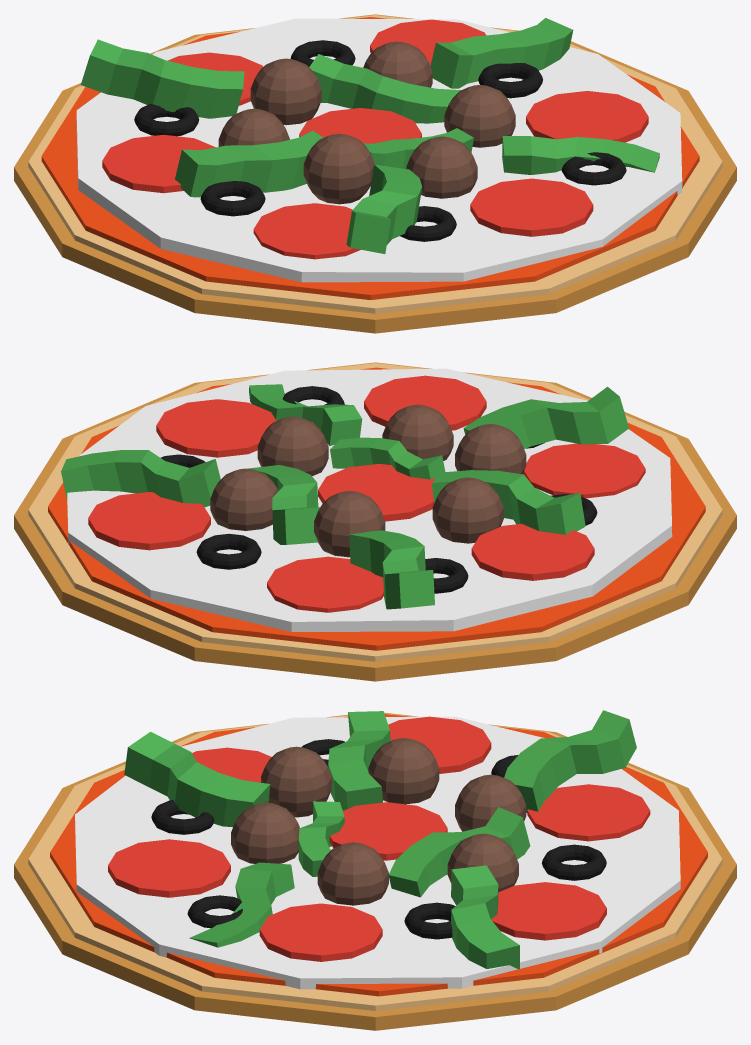
Rendered from pizza.glb.
3 views of the same model, one above another, from view 1: azimuth 30°, elevation 25°; view 2: azimuth 150°, elevation 25°; view 3: azimuth 270°, elevation 25° (orthographic).
Visible parts, largest first — view 1: group60956185, group13992555, group1051877250, group1309335234, group2073463504, group1800032711, group65050131, group565404572, group274291298, group1240131638, group1908690590, group1475154722 (+18 smaller); view 2: group60956185, group13992555, group1051877250, group1309335234, group565404572, group1475154722, group1920391555, group1240131638, group273593077, group1908690590, group1299724127, group2073463504 (+15 smaller); view 3: group60956185, group13992555, group1051877250, group1309335234, group1475154722, group2073463504, group1240131638, group65050131, group1920391555, group1299724127, group565404572, group274291298 (+16 smaller).
Boxes of the visible parts, x1,y1,x2,y2 form: group60956185: (76, 18, 682, 282); group13992555: (14, 14, 736, 333); group1051877250: (28, 15, 722, 313); group1309335234: (41, 17, 699, 299); group2073463504: (80, 39, 244, 118); group1800032711: (175, 130, 323, 197); group65050131: (470, 178, 593, 236); group565404572: (430, 18, 573, 88); group274291298: (309, 54, 461, 123); group1240131638: (526, 91, 648, 142); group1908690590: (253, 203, 360, 259); group1475154722: (346, 164, 422, 253); group60956185: (67, 368, 672, 631); group13992555: (14, 362, 736, 681); group1051877250: (28, 363, 722, 661); group1309335234: (48, 367, 705, 650); group565404572: (61, 450, 220, 507); group1475154722: (463, 386, 628, 449); group1920391555: (88, 492, 210, 550); group1240131638: (156, 399, 276, 457); group273593077: (471, 523, 594, 580); group1908690590: (523, 443, 645, 498); group1299724127: (267, 556, 383, 612); group2073463504: (349, 530, 434, 609); group60956185: (75, 716, 680, 989); group13992555: (14, 712, 736, 1030); group1051877250: (28, 713, 722, 1010); group1309335234: (50, 714, 707, 996); group1475154722: (124, 731, 270, 827); group2073463504: (504, 710, 636, 812); group1240131638: (259, 903, 382, 961); group65050131: (108, 839, 230, 897); group1920391555: (491, 882, 606, 940); group1299724127: (527, 784, 650, 841); group565404572: (451, 865, 519, 969); group274291298: (389, 807, 530, 897).
Size of the model in its own units: 1 by 0.1408 by 1.
